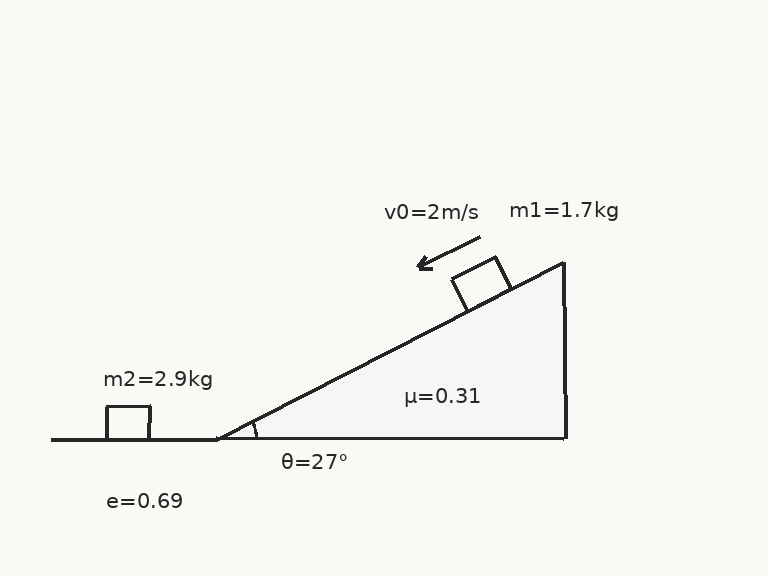block: (449, 255, 513, 313), (104, 405, 152, 441)
ramp: (214, 260, 565, 441)
